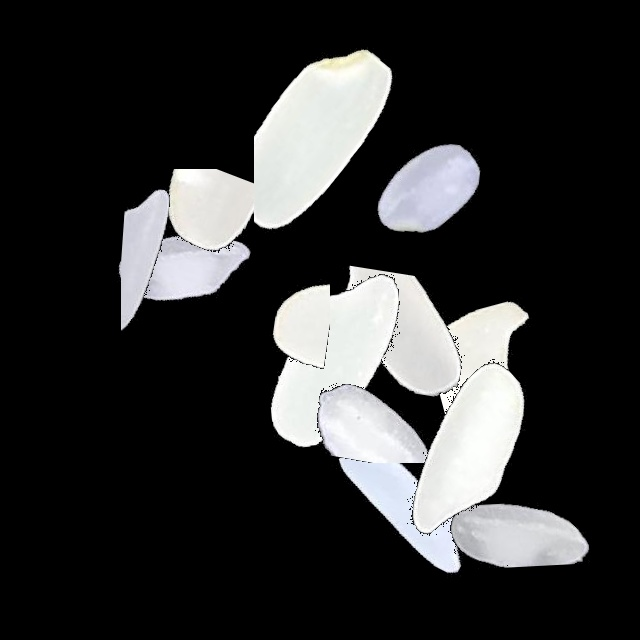Broken: (254, 32, 426, 282), (312, 232, 479, 482), (440, 366, 592, 616), (254, 316, 504, 463), (121, 140, 259, 390), (434, 239, 563, 489), (81, 169, 331, 276), (244, 195, 330, 445), (339, 514, 589, 599), (171, 200, 421, 283)
Full: (58, 143, 308, 393), (277, 380, 527, 630), (302, 64, 552, 314), (211, 235, 461, 485), (337, 326, 587, 576)
